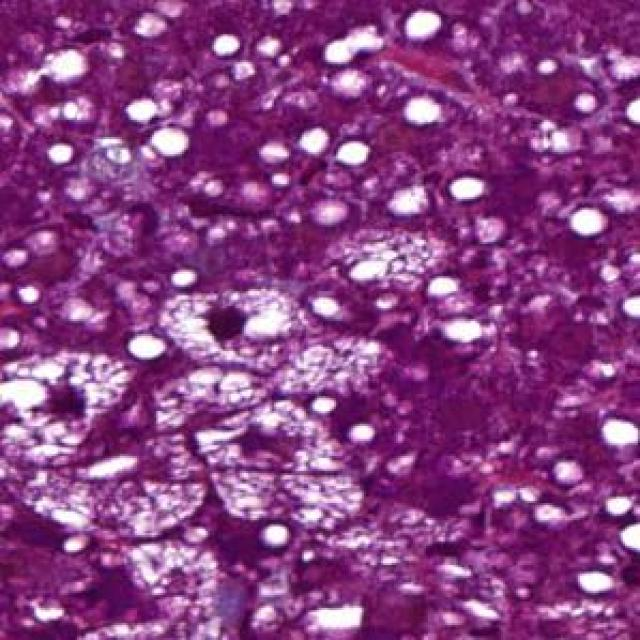ballooning: (190, 396, 370, 535), (9, 347, 141, 471), (154, 285, 323, 381)
